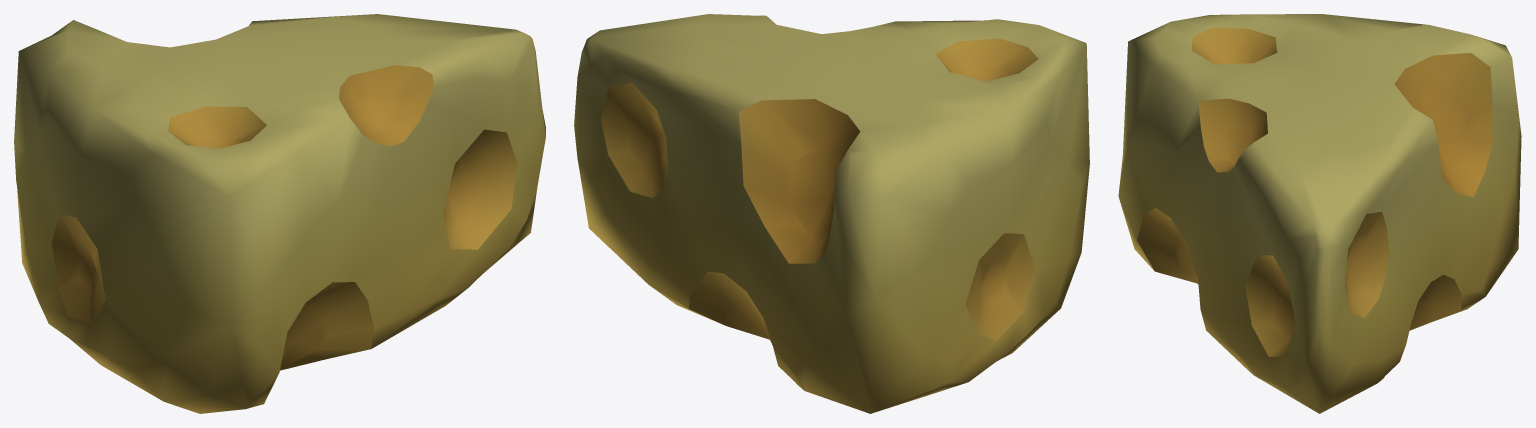
Rendered from Cheese_slice.glb.
3 renders of one model, left to right at view 1: azimuth 30°, elevation 25°; view 2: azimuth 150°, elevation 25°; view 3: azimuth 270°, elevation 25°, orthographic. The views are drawn at different scales.
Parts seen in each view (by area): view 1: geometry_0; view 2: geometry_0; view 3: geometry_0.
Part boxes in pixels (bbox=[...]): geometry_0: bbox=[14, 14, 545, 413]; geometry_0: bbox=[574, 14, 1089, 413]; geometry_0: bbox=[1118, 14, 1521, 413].
Size of the model in its own units: 0.8221 by 0.4432 by 0.6824.
1 material, 1 textured.
